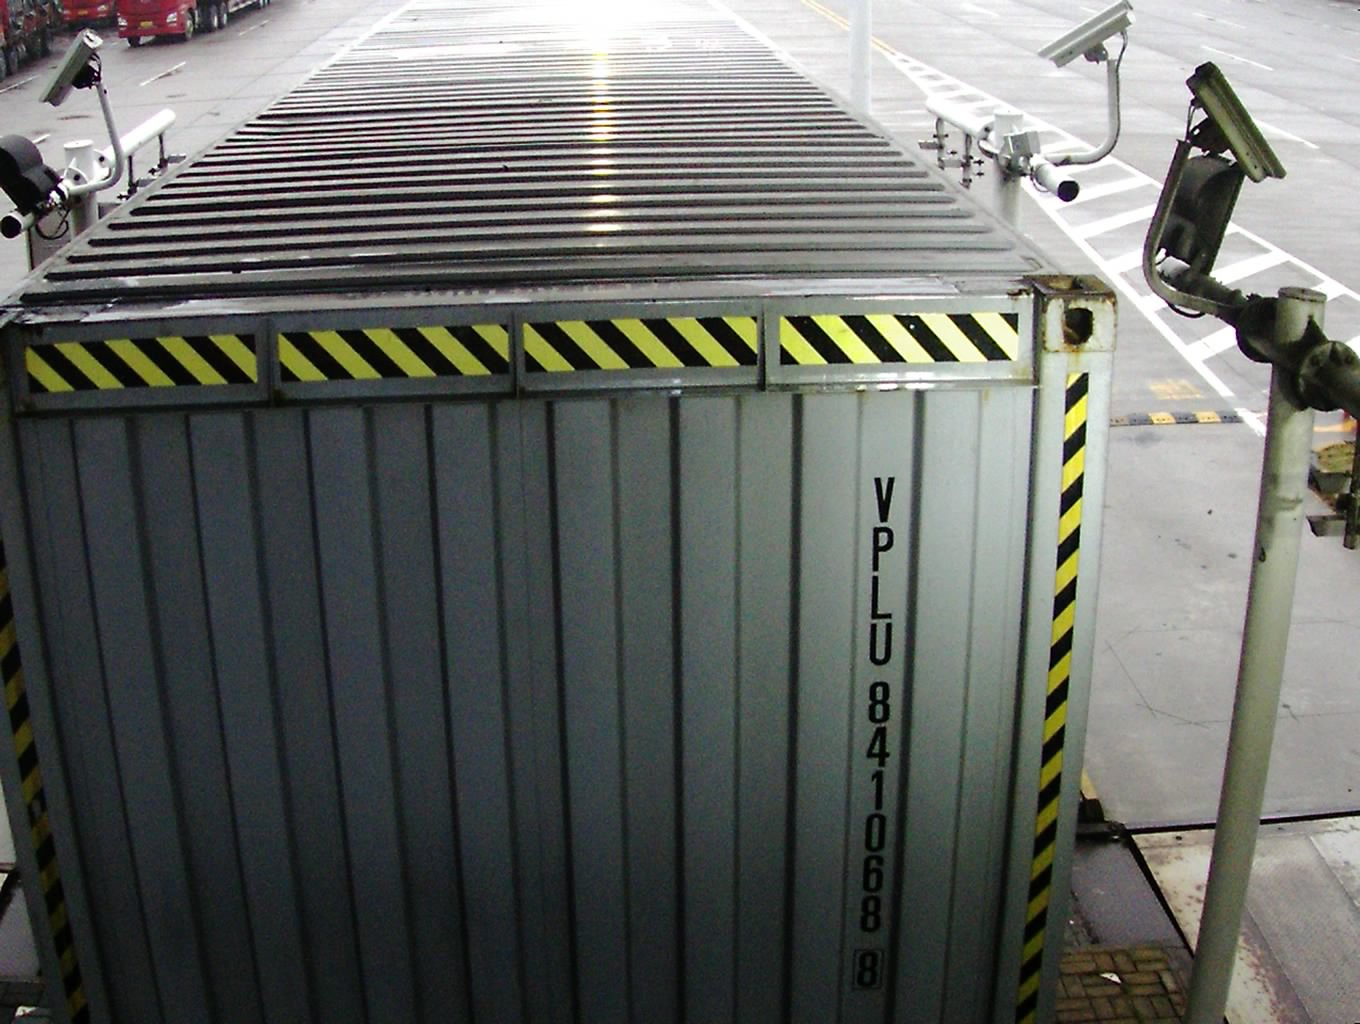words: (851, 469, 902, 993)
